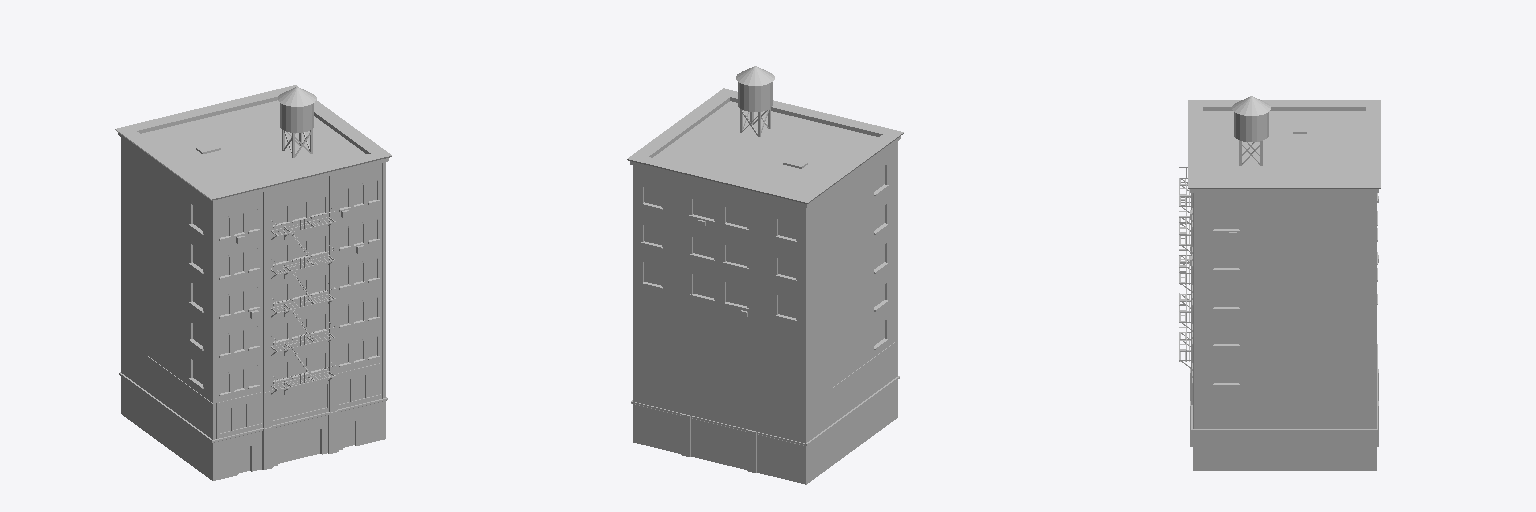
Rendered from Building_A01.obj.
The picture shows the model from 3 angles: view 1: azimuth 30°, elevation 25°; view 2: azimuth 150°, elevation 25°; view 3: azimuth 270°, elevation 25°; orthographic projection.
Parts seen in each view (by area): view 1: K_Building_A01_00; view 2: K_Building_A01_00; view 3: K_Building_A01_00.
Part boxes in pixels (left/top/right/bottom): K_Building_A01_00: left=115, top=85, right=391, bottom=480; K_Building_A01_00: left=627, top=66, right=903, bottom=484; K_Building_A01_00: left=1179, top=96, right=1380, bottom=470.
Size of the model in its own units: 16.11 by 29.34 by 15.64.